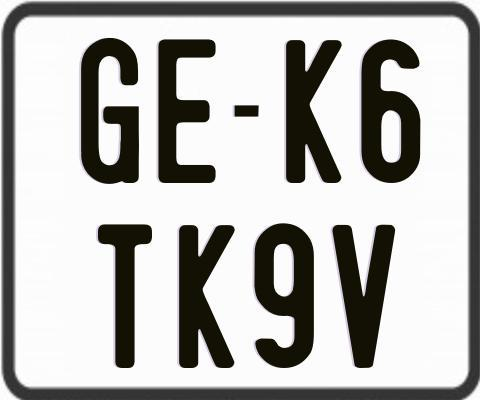6: (358, 39, 418, 187)
9: (254, 222, 319, 369)
E: (158, 39, 216, 186)
G: (80, 36, 140, 182)
K: (284, 40, 346, 187), (176, 225, 232, 370)
T: (95, 222, 150, 371)
V: (331, 224, 396, 372)
